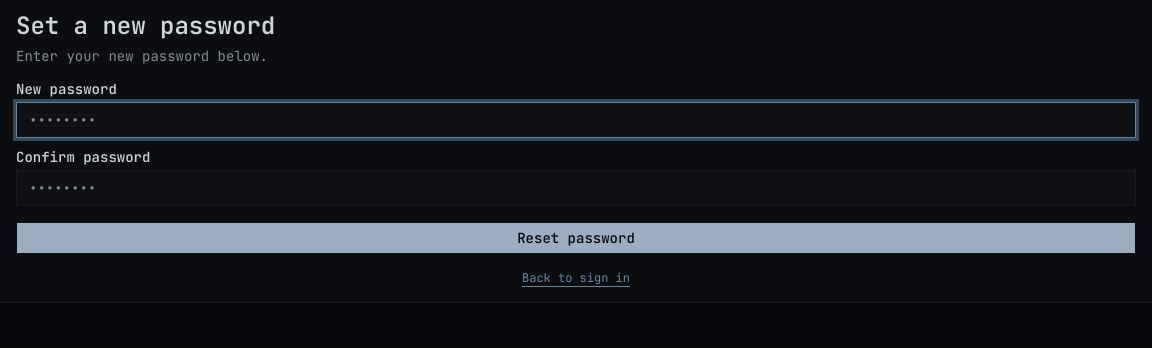
ResetPasswordPage › shows error message on API failure
This screenshot has width=1152, height=348.
Type "newpass123" into the password field labelled "New password".
click(576, 120); type("newpass123")  # box [16,102,1136,138]
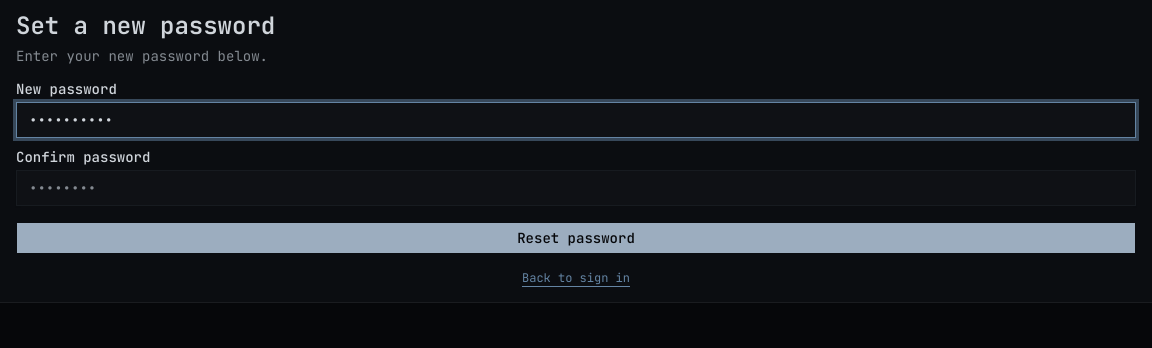
Type "newpass123" into the password field labelled "Confirm password".
click(576, 188); type("newpass123")  # box [16,170,1136,206]
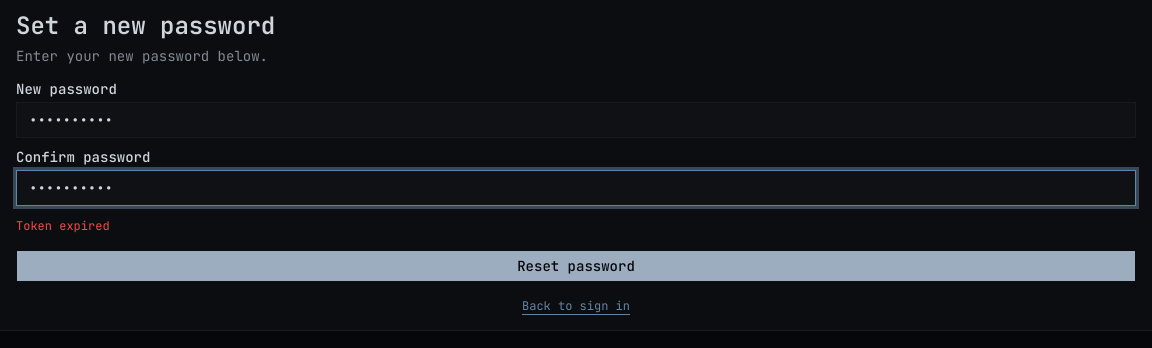
Result: the text "Token expired" is shown at [16,218,110,234]
